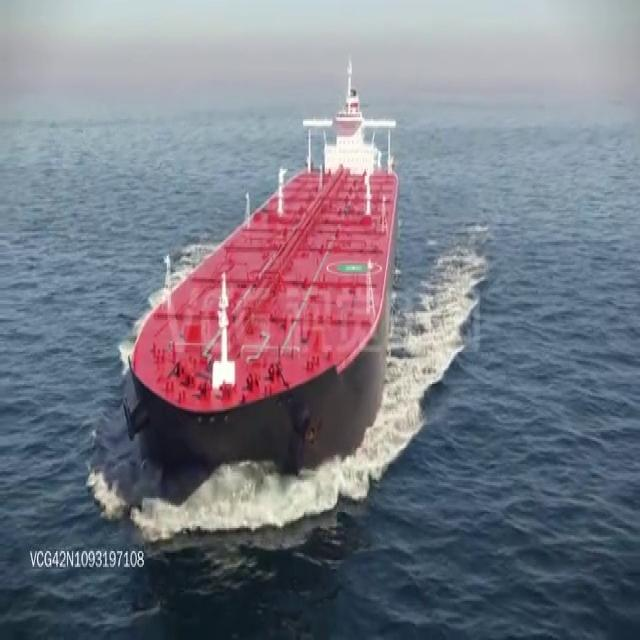cargoship: (130, 56, 404, 467)
